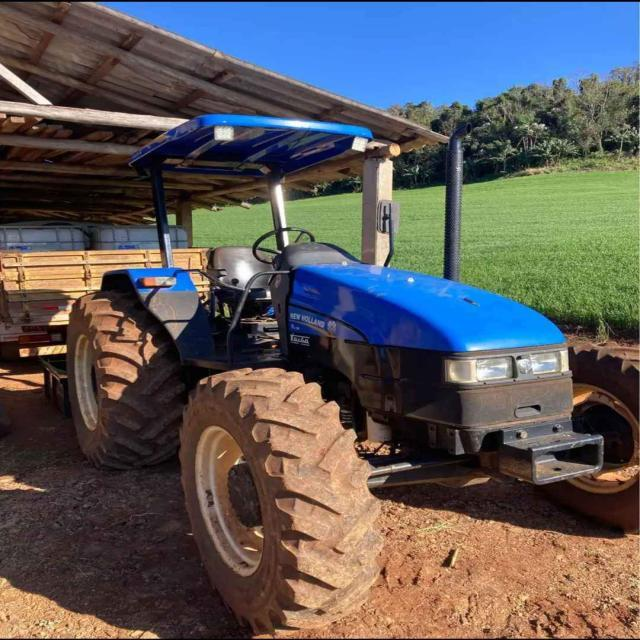Tratores - v5 YOLO V8L 2024-11-13: (55, 109, 640, 639)
